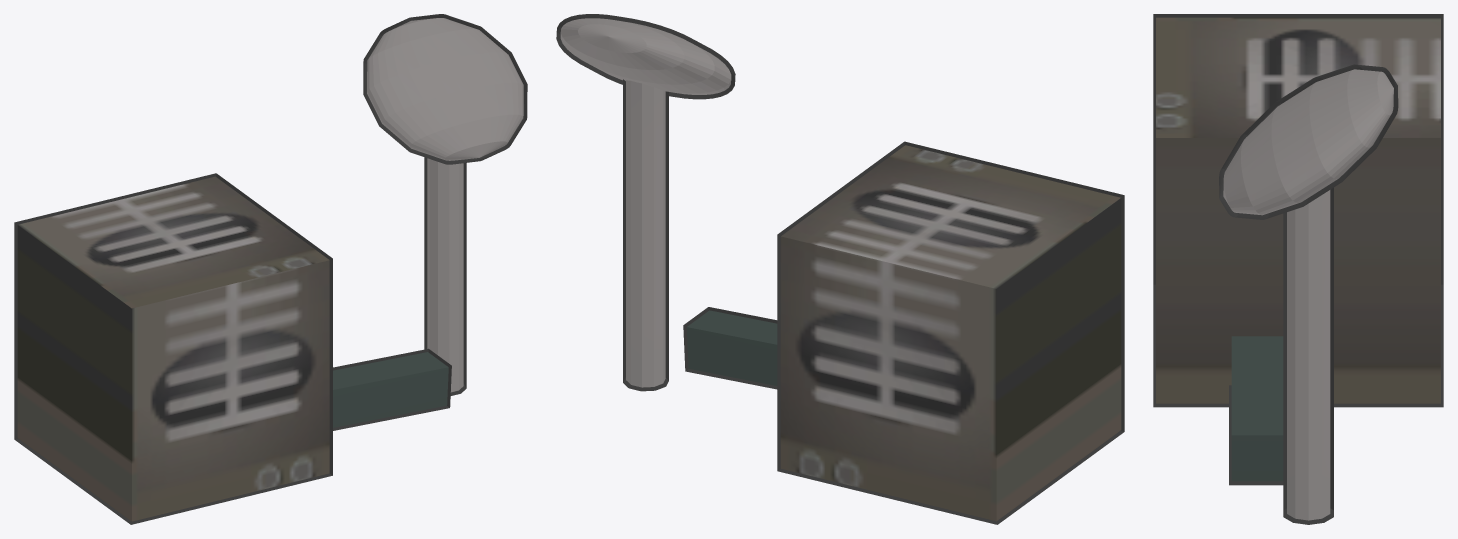
File: Building_BurnoutMechlinkBooster.glb
3 views of the same model, side by side, from view 1: azimuth 30°, elevation 25°; view 2: azimuth 150°, elevation 25°; view 3: azimuth 270°, elevation 25° (orthographic). The views are drawn at different scales.
Visible parts, largest first — view 1: BurnoutMechlinkBooster, Outline; view 2: BurnoutMechlinkBooster, Outline; view 3: BurnoutMechlinkBooster, Outline.
Part boxes in pixels (left/top/right/bottom): BurnoutMechlinkBooster: left=17, top=18, right=523, bottom=521; Outline: left=14, top=14, right=527, bottom=524; BurnoutMechlinkBooster: left=560, top=18, right=1121, bottom=521; Outline: left=556, top=14, right=1124, bottom=524; BurnoutMechlinkBooster: left=1156, top=17, right=1440, bottom=520; Outline: left=1153, top=14, right=1443, bottom=524.
Bounding box in the file's own units: 1.99 × 1.48 × 0.8923.
2 materials, 1 textured.
